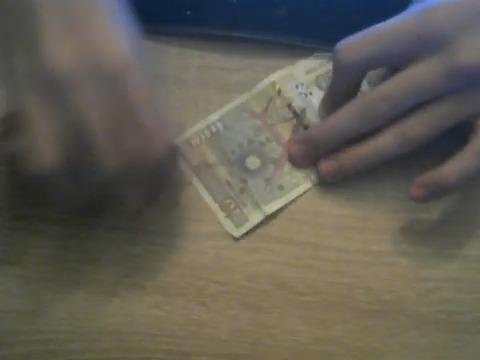10leva: (176, 53, 333, 242)
